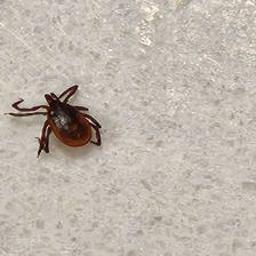Ixodes scapularis: (10, 84, 104, 156)
